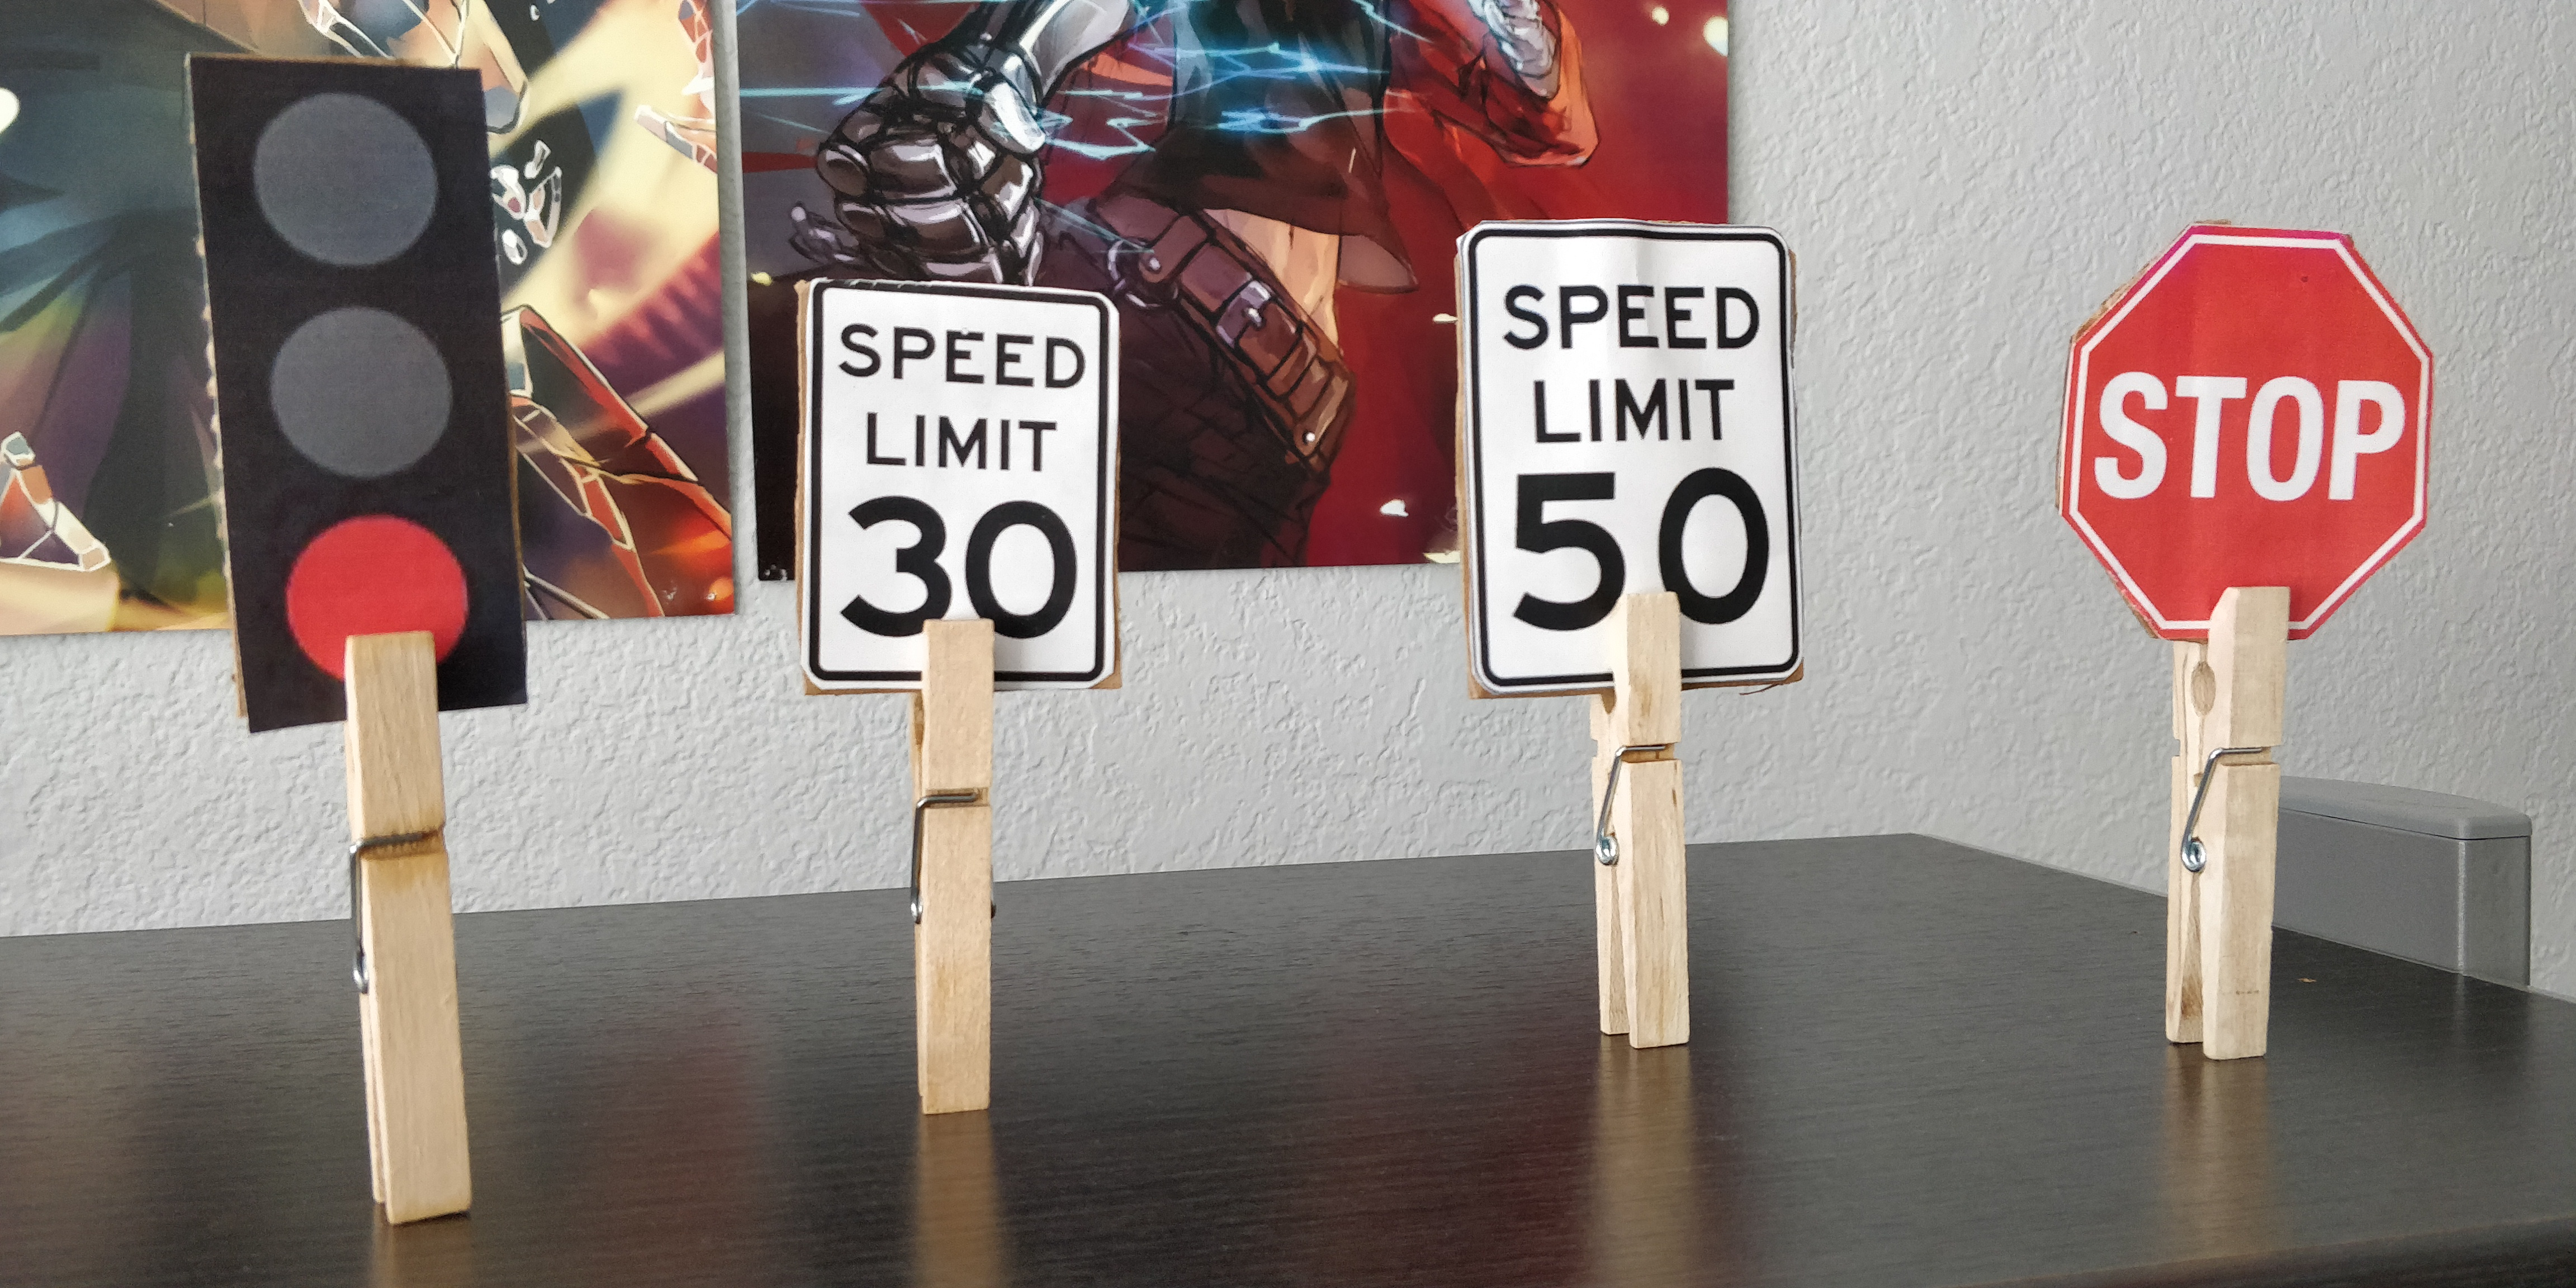Speed Limit 30: (800, 266, 1124, 697)
Speed Limit 50: (1459, 220, 1804, 695)
Stop Sign: (2057, 223, 2430, 637)
red light: (182, 56, 531, 736)
